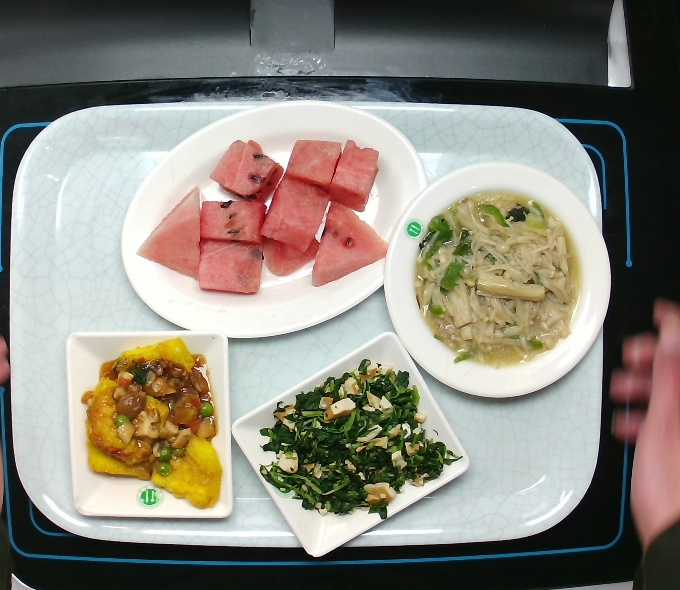wcq-CuiPiDouFu: (79, 335, 226, 512)
wcq-JinZhenGu: (412, 187, 586, 367)
wcq-MaLanTouChaoDouGan: (255, 358, 462, 525)
wcq-XiGua: (133, 135, 392, 300)
